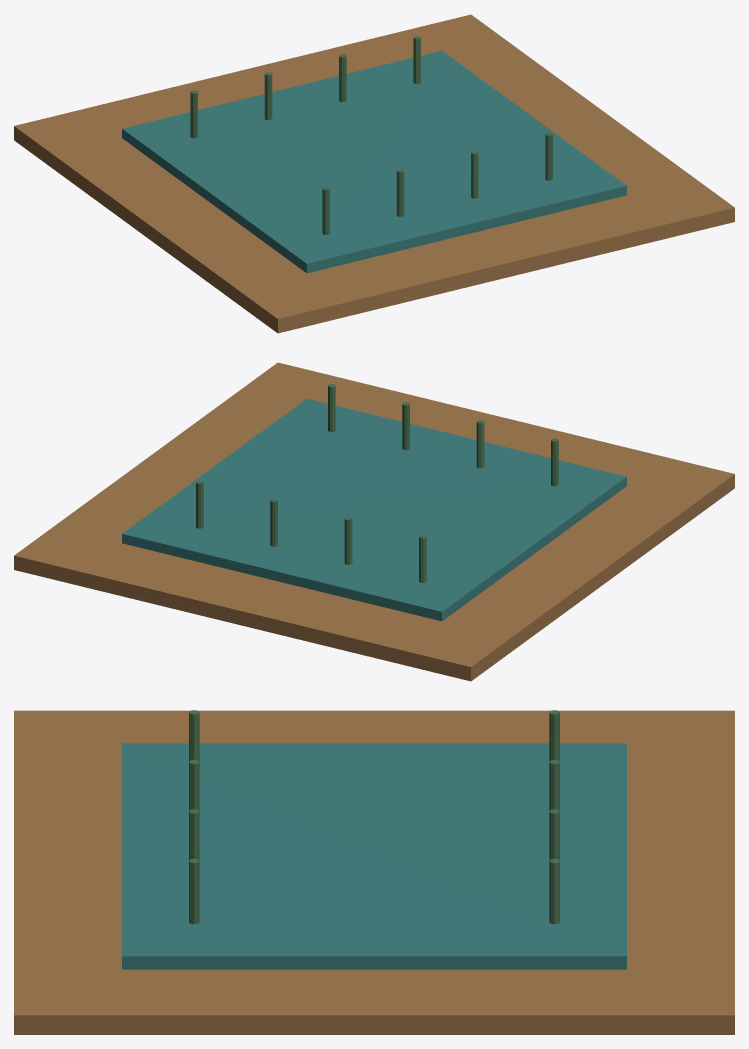
The model's file is Frog-pond.glb.
3 views of the same model, one above another, from view 1: azimuth 30°, elevation 25°; view 2: azimuth 150°, elevation 25°; view 3: azimuth 270°, elevation 25° (orthographic). The views are drawn at different scales.
Parts seen in each view (by area): view 1: frog-pond-static-frog-pond-earth, frog-pond-static-frog-pond-water, frog-pond-static-frog-pond-leaf; view 2: frog-pond-static-frog-pond-earth, frog-pond-static-frog-pond-water, frog-pond-static-frog-pond-leaf; view 3: frog-pond-static-frog-pond-earth, frog-pond-static-frog-pond-water, frog-pond-static-frog-pond-leaf.
Part boxes in pixels (<box>): frog-pond-static-frog-pond-earth: <box>14,14,734,333</box>; frog-pond-static-frog-pond-water: <box>122,50,626,273</box>; frog-pond-static-frog-pond-leaf: <box>190,36,552,234</box>; frog-pond-static-frog-pond-earth: <box>14,362,734,681</box>; frog-pond-static-frog-pond-water: <box>122,398,626,621</box>; frog-pond-static-frog-pond-leaf: <box>196,384,558,582</box>; frog-pond-static-frog-pond-earth: <box>14,710,734,1034</box>; frog-pond-static-frog-pond-water: <box>122,743,626,969</box>; frog-pond-static-frog-pond-leaf: <box>189,710,559,924</box>.
Bounding box in the file's own units: 4 × 0.575 × 4.
